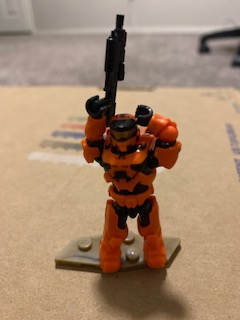rifle: (94, 12, 129, 125)
spartan: (78, 94, 182, 272)
up: (76, 96, 185, 194)
